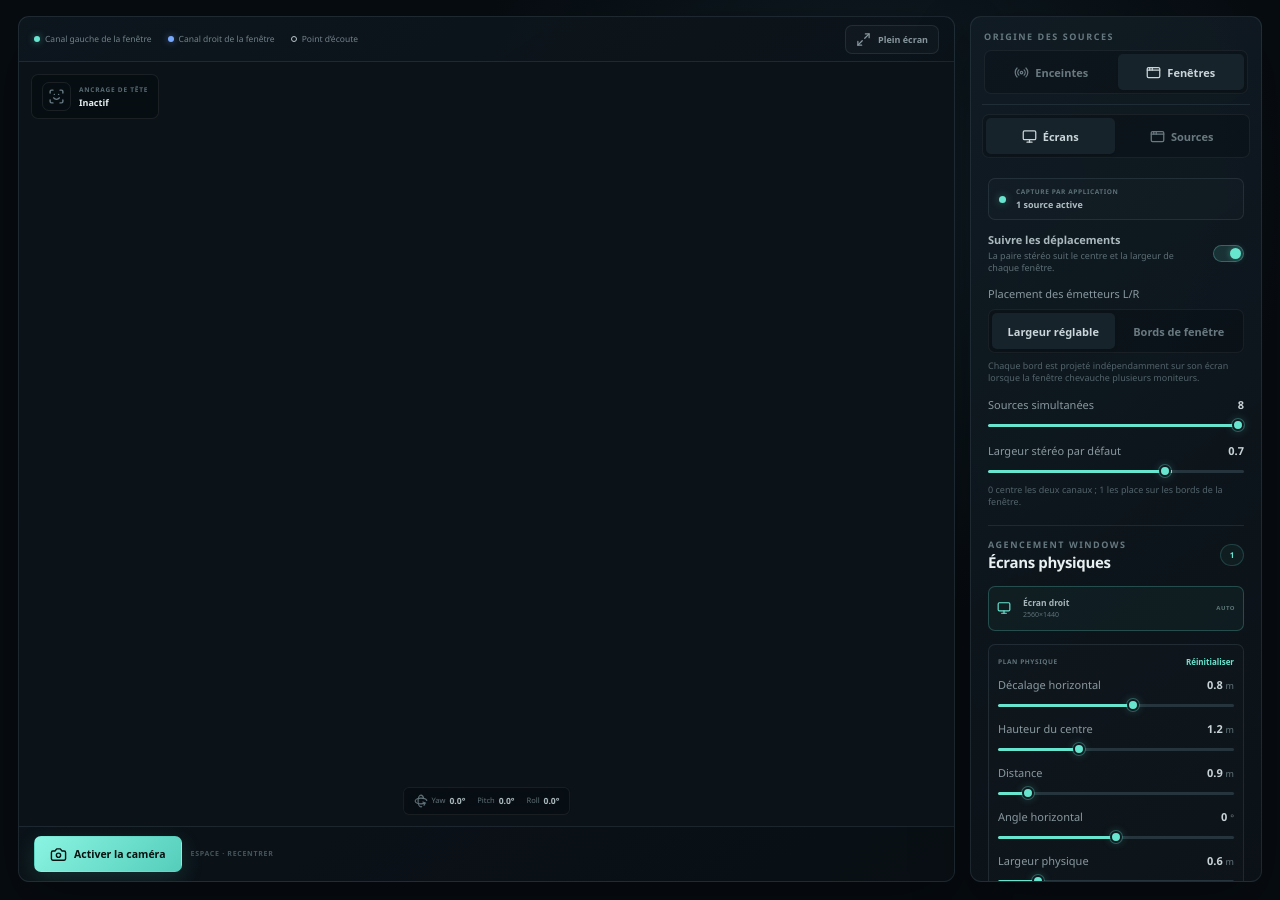
Test: éditeur d’implantation 5.1 › place L/R sur les bords de fenêtre avec un mode explicite
Step 1. Click the radio button labelled "Bords de fenêtre" → (1179, 331), box x1=1118 y1=313 x2=1240 y2=349
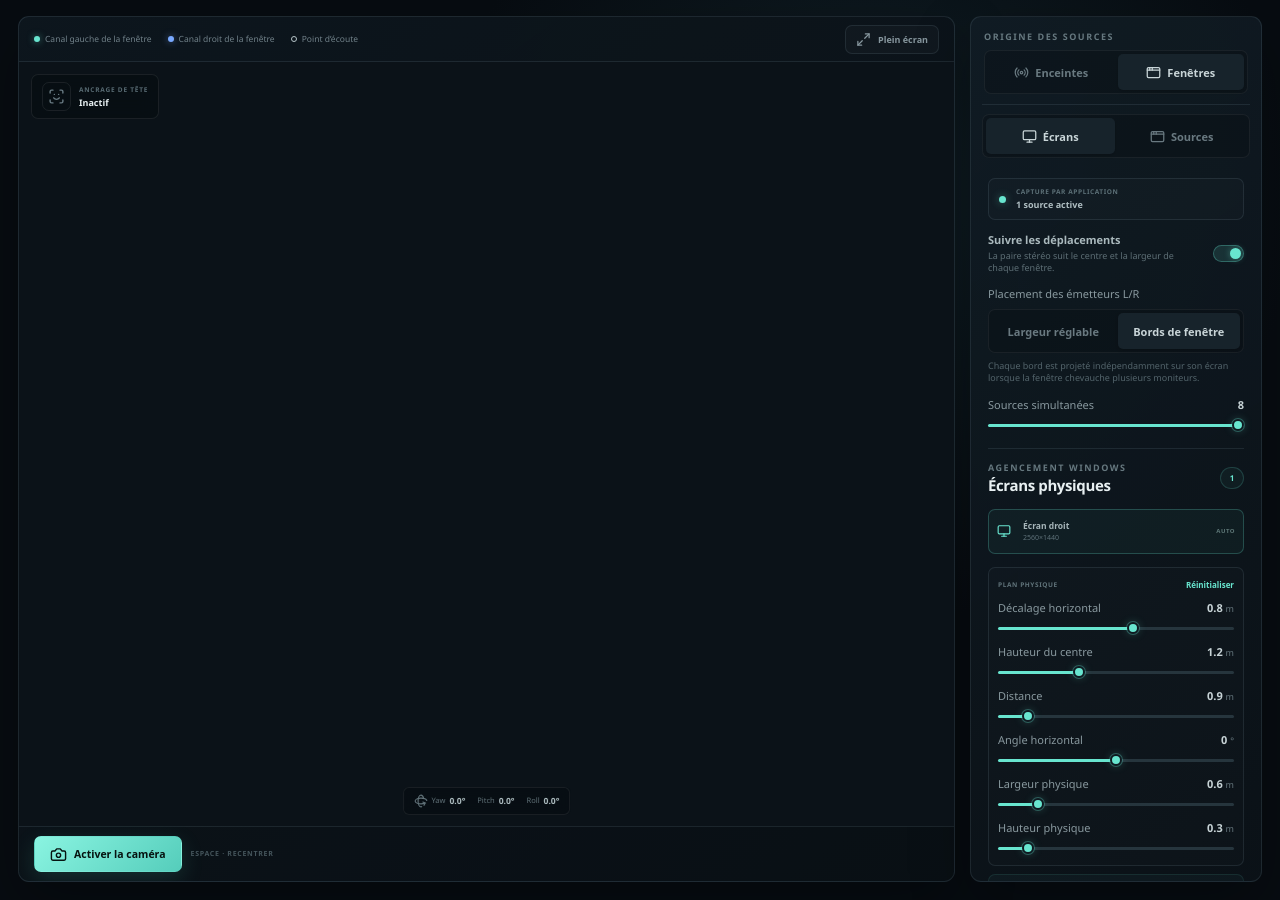
Check: the text "Chaque bord est projeté indépendamment" is shown, box x1=988 y1=359 x2=1228 y2=384
Check: the text "Largeur stéréo par défaut" is gone
